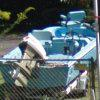Boat: (2, 13, 99, 100)
